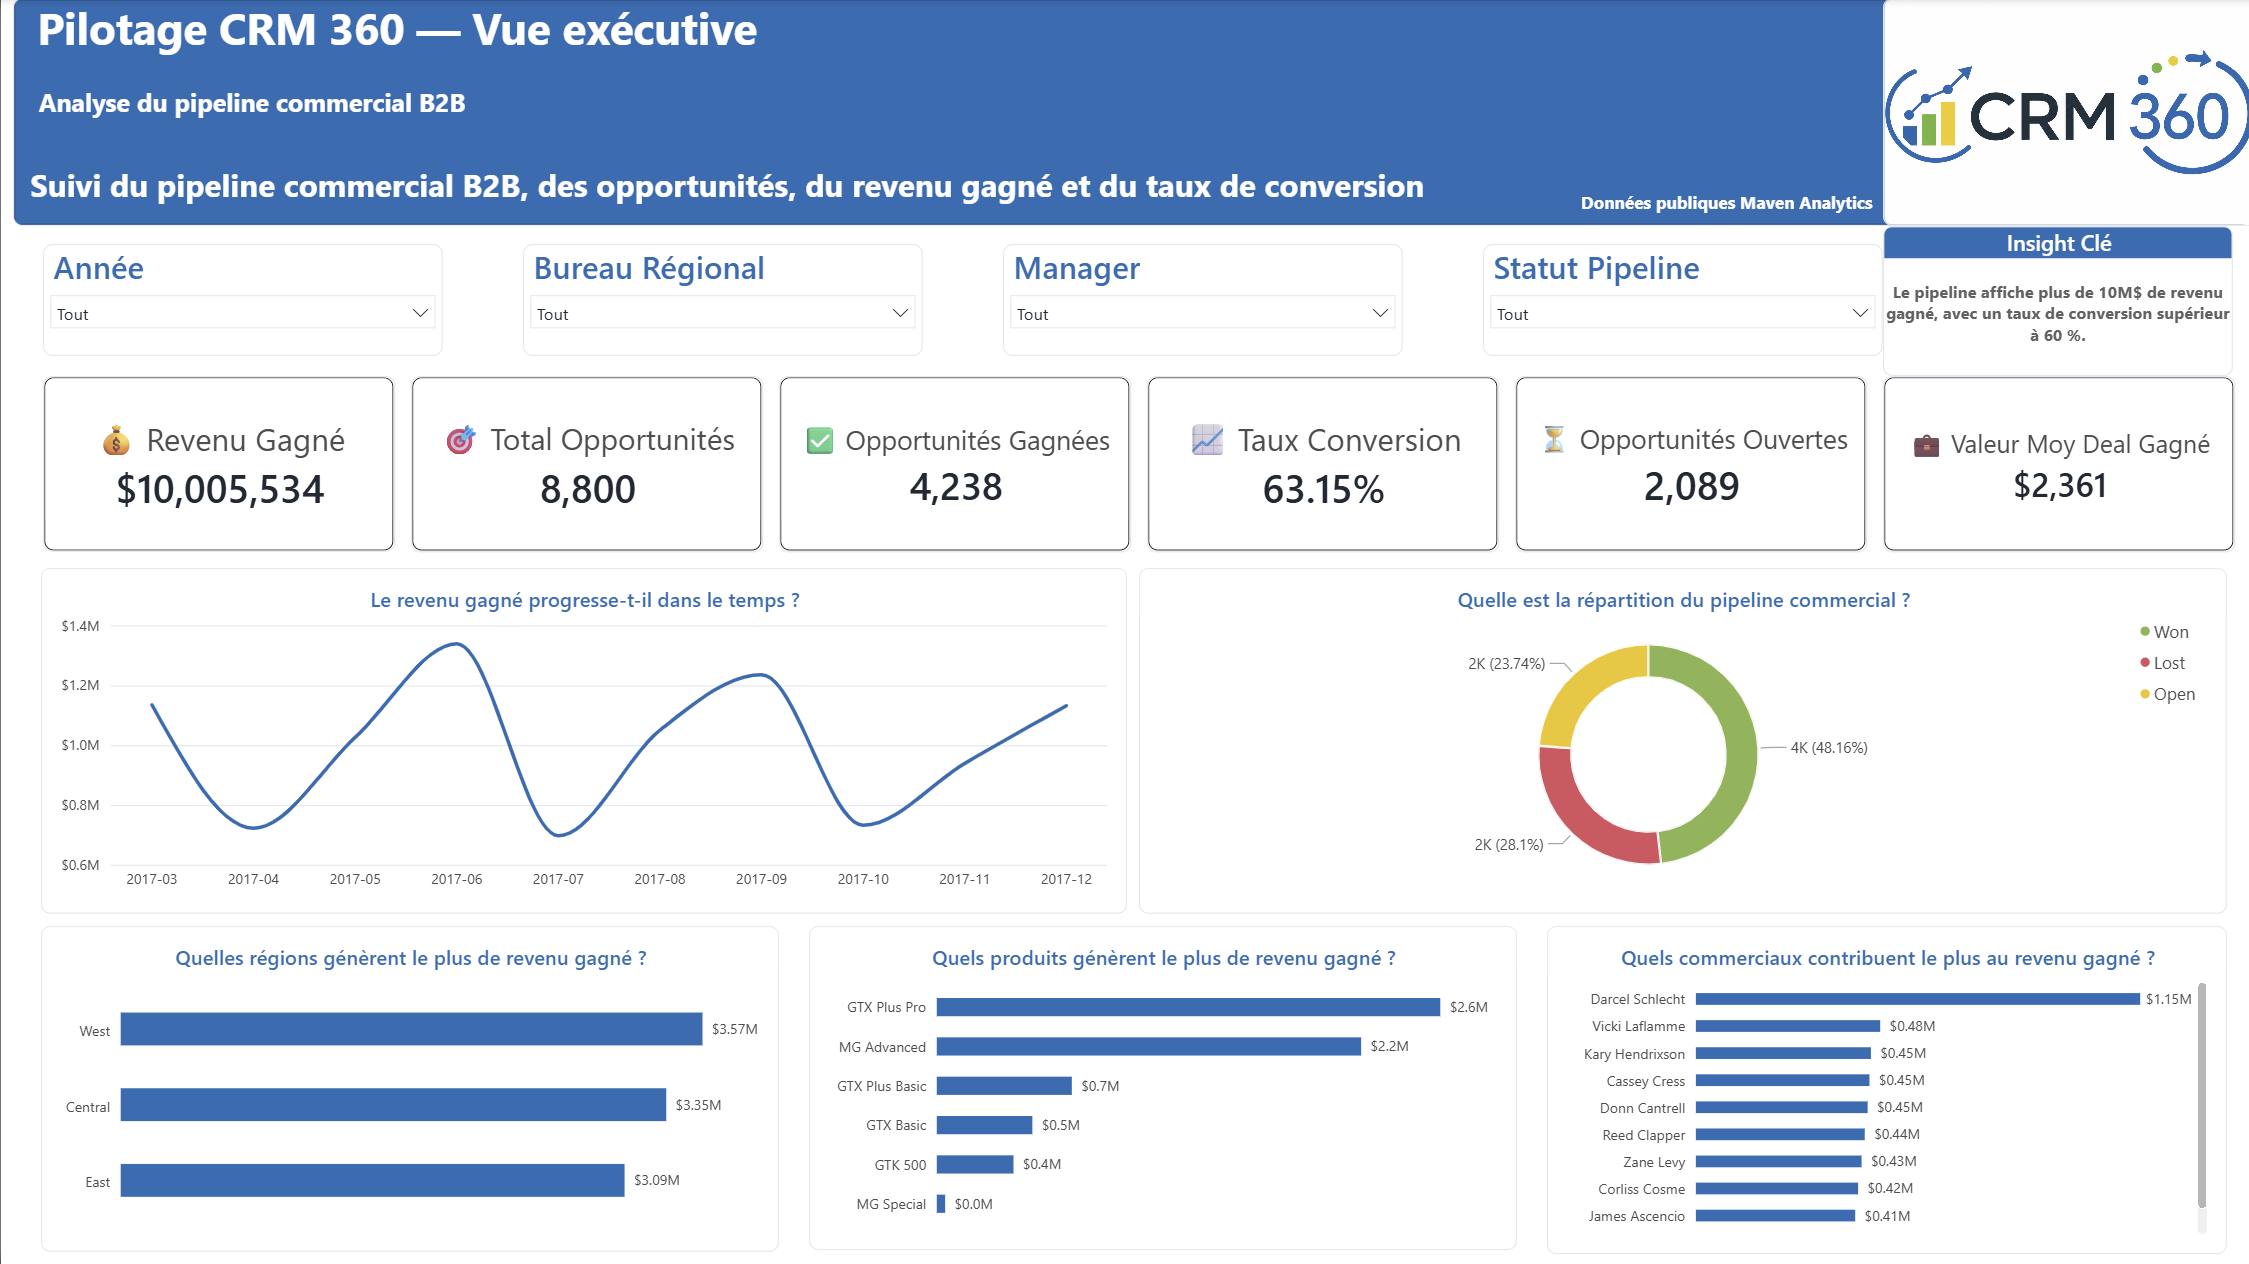

Layout of this report page (visuals, bound fields, positions):
{"tool":"powerbi","page":{"name":"Vue exécutive","canvas":[1920,1080],"ordinal":0},"visuals":[{"type":"shape","box":[10.2,0,1909.2,194.5],"z":0},{"type":"image","box":[1605.5,0,319.1,194.5],"z":1000},{"type":"textbox","box":[10.2,0,1909.2,194.5],"z":2000},{"type":"textbox","box":[1347.9,163.8,571.6,61.4],"z":3000},{"type":"slicer","fields":{"Values":["Dim_Calendar.Année"]},"box":[35.8,209.9,341.2,95.5],"z":4000},{"type":"slicer","fields":{"Values":["Dim_Sales_Teams.regional_office"]},"box":[445.3,209.9,341.2,95.5],"z":5000},{"type":"slicer","fields":{"Values":["Dim_Sales_Teams.manager"]},"box":[854.8,209.9,341.2,95.5],"z":6000},{"type":"slicer","fields":{"Values":["Fact_Sales_Pipeline.Pipeline Status"]},"box":[1264.3,209.9,341.2,95.5],"z":7000},{"type":"cardVisual","fields":{"Data":["_Mesures.Revenu Gagné"]},"box":[35.8,322.3,300.3,150.1],"z":8000},{"type":"cardVisual","fields":{"Data":["_Mesures.Total Opportunités"]},"box":[349.6,322.3,300.6,150.3],"z":9000},{"type":"cardVisual","fields":{"Data":["_Mesures.Opportunités Gagnées"]},"box":[663.6,322.3,300.6,150.3],"z":10000},{"type":"cardVisual","fields":{"Data":["_Mesures.Taux Conversion"]},"box":[977.6,322.3,300.6,150.3],"z":11000},{"type":"cardVisual","fields":{"Data":["_Mesures.Opportunités Ouvertes"]},"box":[1291.6,322.3,300.6,150.3],"z":12000},{"type":"cardVisual","fields":{"Data":["_Mesures.Valeur Moyenne Deal Gagné"]},"box":[1605.6,322.3,300.6,150.3],"z":13000},{"type":"lineChart","title":"Le revenu gagné progresse-t-il dans le temps ?","fields":{"Category":["Dim_Calendar.Année-Mois"],"Y":["_Mesures.Revenu Gagné"]},"box":[34.1,486.3,926.4,295.2],"z":14000},{"type":"donutChart","title":"Quelle est la répartition du pipeline commercial ?","fields":{"Category":["Fact_Sales_Pipeline.Pipeline Status"],"Y":["_Mesures.Total Opportunités"]},"box":[970.8,486.3,928.2,295.2],"z":15000},{"type":"clusteredBarChart","title":"Quels produits génèrent le plus de revenu gagné ?","fields":{"Category":["Dim_Products.product"],"Y":["_Mesures.Revenu Gagné"]},"box":[689.3,791.7,604,276.4],"z":16000},{"type":"clusteredBarChart","title":"Quels commerciaux contribuent le plus au revenu gagné ?","fields":{"Category":["Dim_Sales_Teams.sales_agent"],"Y":["_Mesures.Revenu Gagné"]},"box":[1318.9,791.7,580.1,279.8],"z":17000},{"type":"clusteredBarChart","title":"Quelles régions génèrent le plus de revenu gagné ?","fields":{"Category":["Dim_Sales_Teams.regional_office"],"Y":["_Mesures.Revenu Gagné"]},"box":[34.1,791.7,629.6,278.1],"z":18000},{"type":"textbox","title":"Insight Clé","box":[1605.5,194.5,298.6,128],"z":19000}]}

Visuals, with their boxes in screenshot pixels (x1, y1, x2, y2), scaled from the page's 1920x1080 canvas onto the 2249x1264 screenshot:
shape: <box>12,0,2248,228</box>
image: <box>1881,0,2248,228</box>
textbox: <box>12,0,2248,228</box>
textbox: <box>1579,192,2248,264</box>
slicer - Dim_Calendar.Année: <box>42,246,442,357</box>
slicer - Dim_Sales_Teams.regional_office: <box>522,246,921,357</box>
slicer - Dim_Sales_Teams.manager: <box>1001,246,1401,357</box>
slicer - Fact_Sales_Pipeline.Pipeline Status: <box>1481,246,1881,357</box>
cardVisual - _Mesures.Revenu Gagné: <box>42,377,394,553</box>
cardVisual - _Mesures.Total Opportunités: <box>410,377,762,553</box>
cardVisual - _Mesures.Opportunités Gagnées: <box>777,377,1129,553</box>
cardVisual - _Mesures.Taux Conversion: <box>1145,377,1497,553</box>
cardVisual - _Mesures.Opportunités Ouvertes: <box>1513,377,1865,553</box>
cardVisual - _Mesures.Valeur Moyenne Deal Gagné: <box>1881,377,2233,553</box>
"Le revenu gagné progresse-t-il dans le temps ?" lineChart: <box>40,569,1125,915</box>
"Quelle est la répartition du pipeline commercial ?" donutChart: <box>1137,569,2224,915</box>
"Quels produits génèrent le plus de revenu gagné ?" clusteredBarChart: <box>807,927,1515,1250</box>
"Quels commerciaux contribuent le plus au revenu gagné ?" clusteredBarChart: <box>1545,927,2224,1254</box>
"Quelles régions génèrent le plus de revenu gagné ?" clusteredBarChart: <box>40,927,777,1252</box>
"Insight Clé" textbox: <box>1881,228,2230,377</box>
